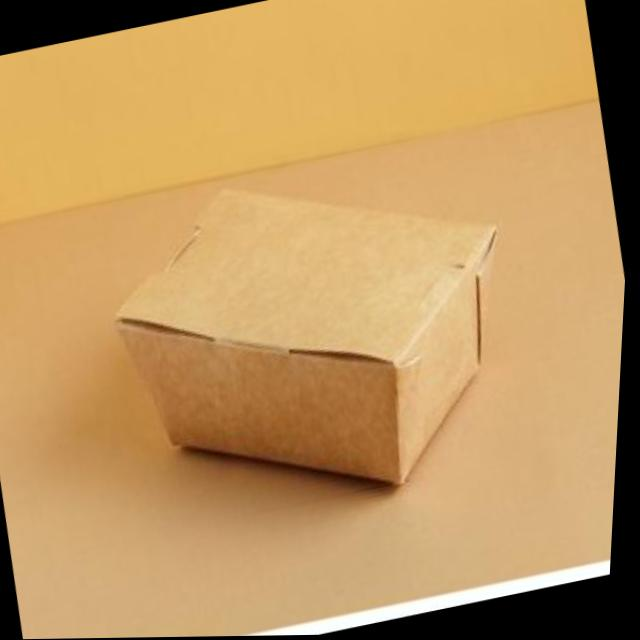box: (77, 123, 571, 547)
